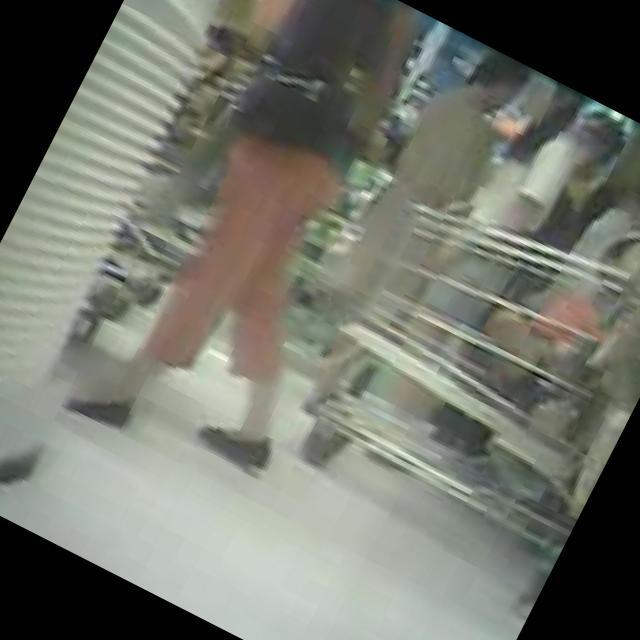person: (0, 0, 484, 493), (273, 33, 542, 442), (346, 70, 606, 478), (528, 100, 638, 246), (567, 120, 640, 276)
